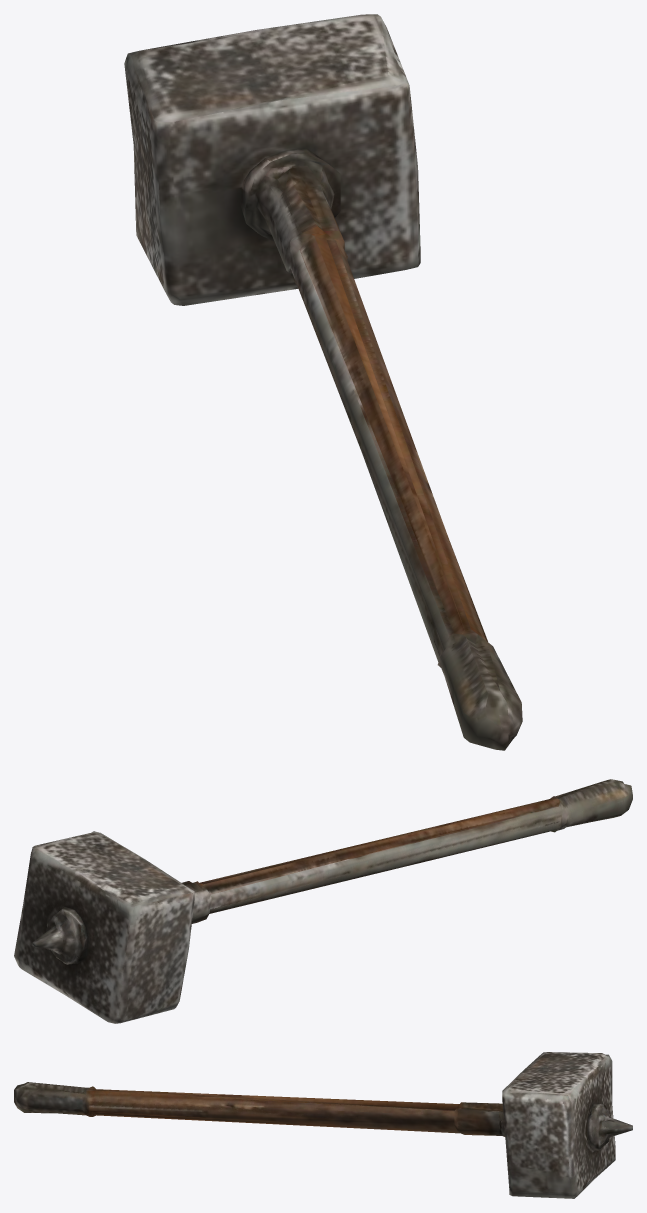
File: WPN_HAMMER.glb
3 renders of one model, top to bottom at view 1: azimuth 30°, elevation 25°; view 2: azimuth 150°, elevation 25°; view 3: azimuth 270°, elevation 25°, orthographic. The views are drawn at different scales.
Visible parts, largest first — view 1: WPN_HAMMER; view 2: WPN_HAMMER; view 3: WPN_HAMMER.
Part boxes in pixels (x1,y1,x2,y2): WPN_HAMMER: [124, 14, 522, 750]; WPN_HAMMER: [14, 779, 632, 1023]; WPN_HAMMER: [14, 1052, 632, 1198].
Bounding box in the file's own units: 0.1546 × 0.0744 × 0.3522.
1 material, 1 textured.
